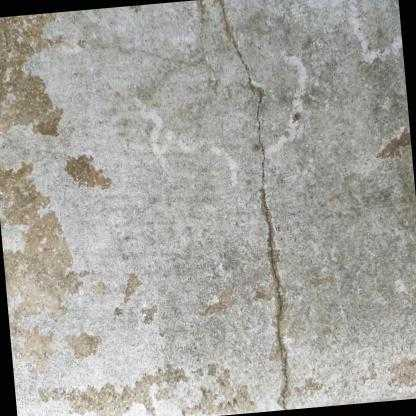crack: (216, 0, 290, 406)
